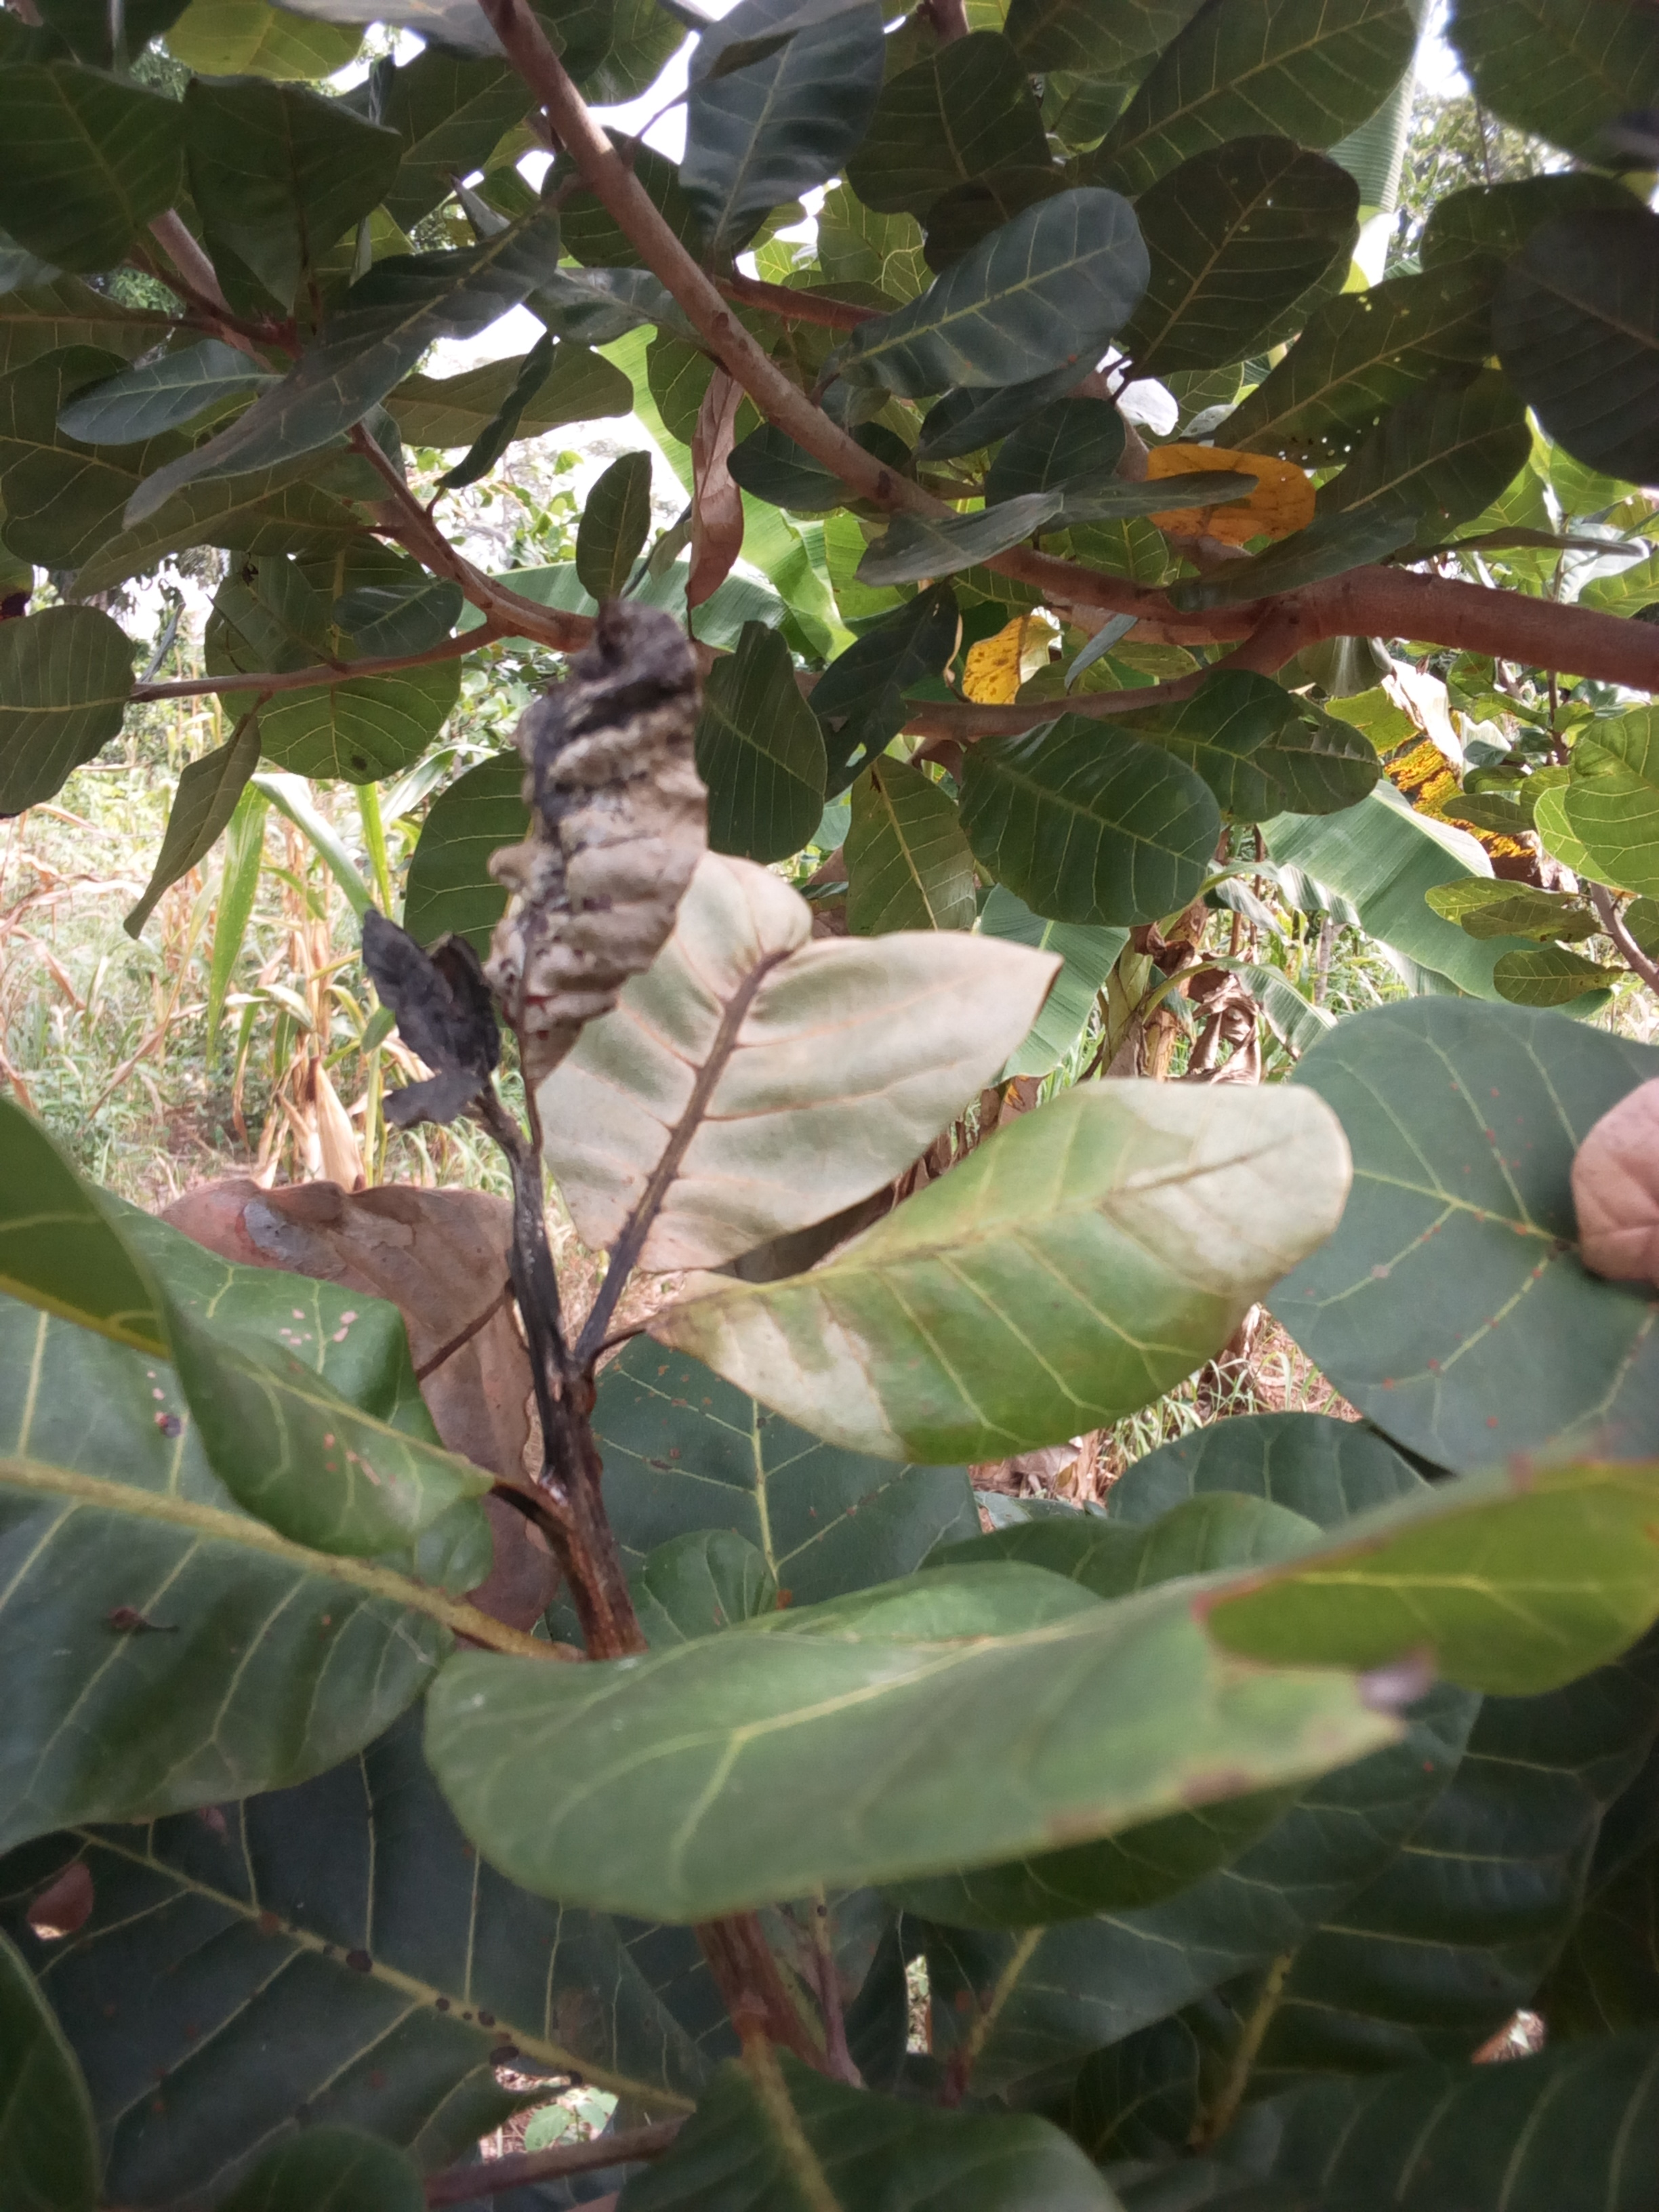Dessèchement des bourgeons: (471, 1127, 633, 1489), (355, 909, 521, 1116)
